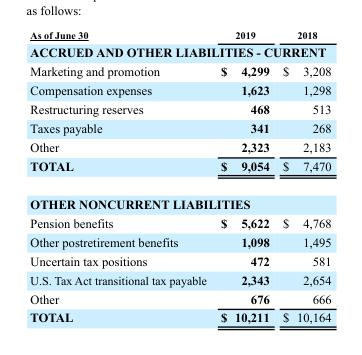table: (29, 28, 330, 324)
table column: (29, 28, 212, 324), (212, 28, 275, 324), (275, 28, 330, 324)
table column header: (29, 28, 330, 42)
table projected row header: (29, 184, 330, 213), (29, 42, 330, 61)
table row: (29, 184, 330, 213), (29, 156, 330, 184), (29, 42, 330, 61), (29, 61, 330, 80), (29, 80, 330, 99), (29, 99, 330, 118), (29, 118, 330, 137), (29, 137, 330, 156), (29, 231, 330, 250), (29, 250, 330, 269), (29, 269, 330, 288), (29, 288, 330, 307), (29, 213, 330, 231), (29, 307, 330, 324), (29, 28, 330, 42)
